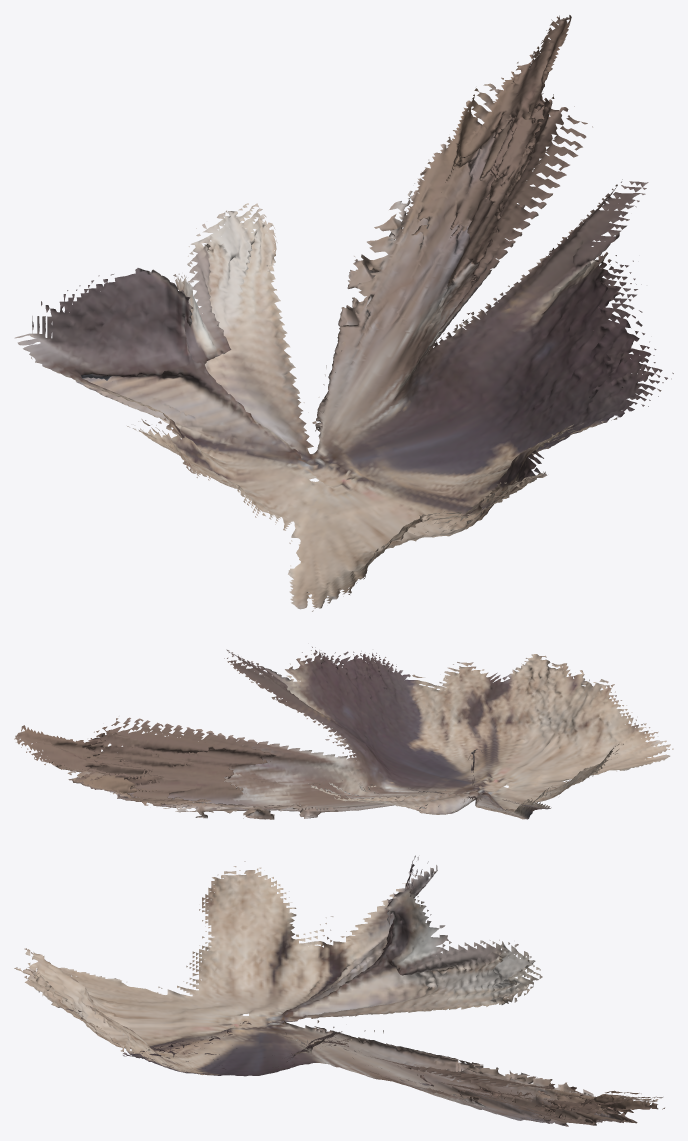
Rendered from Industrial Base on Alien Planet_collider.glb.
3 views of the same model, one above another, from view 1: azimuth 30°, elevation 25°; view 2: azimuth 150°, elevation 25°; view 3: azimuth 270°, elevation 25° (orthographic). The views are drawn at different scales.
Visible parts, largest first — view 1: world; view 2: world; view 3: world.
Boxes of the visible parts, x1,y1,x2,y2 form: world: [14, 15, 673, 611]; world: [14, 647, 673, 819]; world: [14, 855, 664, 1126].
Bounding box in the file's own units: 118 × 27.99 × 121.
